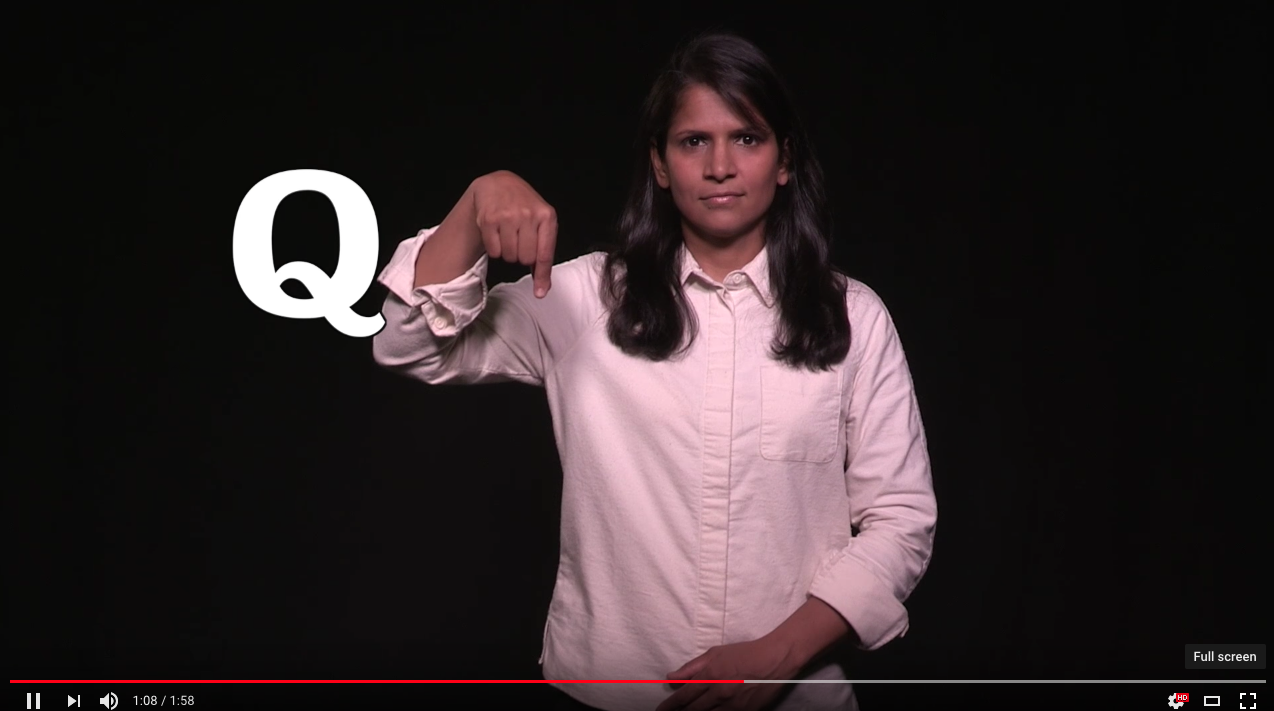q: (458, 154, 585, 315)
